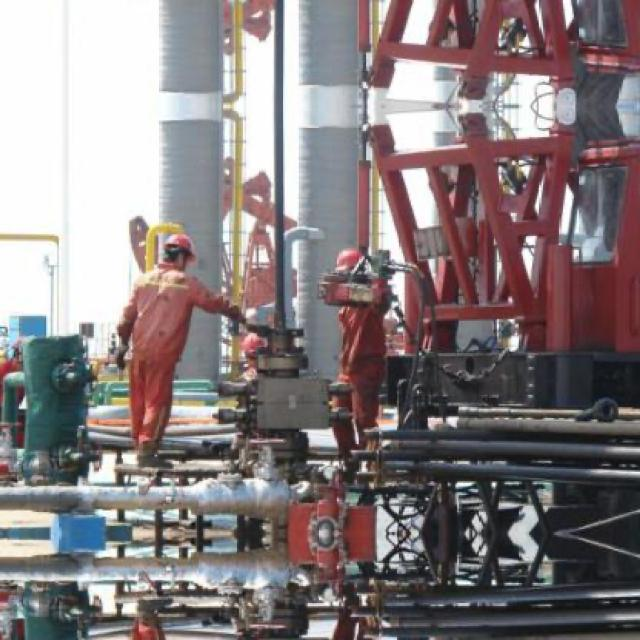con casco: (340, 222, 436, 302), (163, 215, 216, 279)
